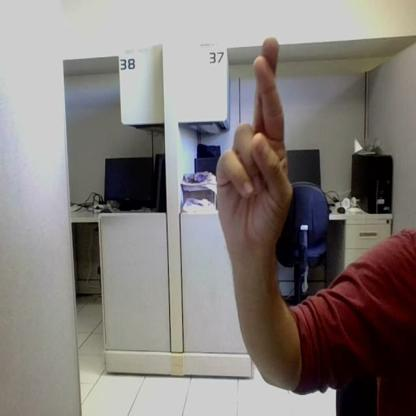R: (218, 38, 291, 241)
